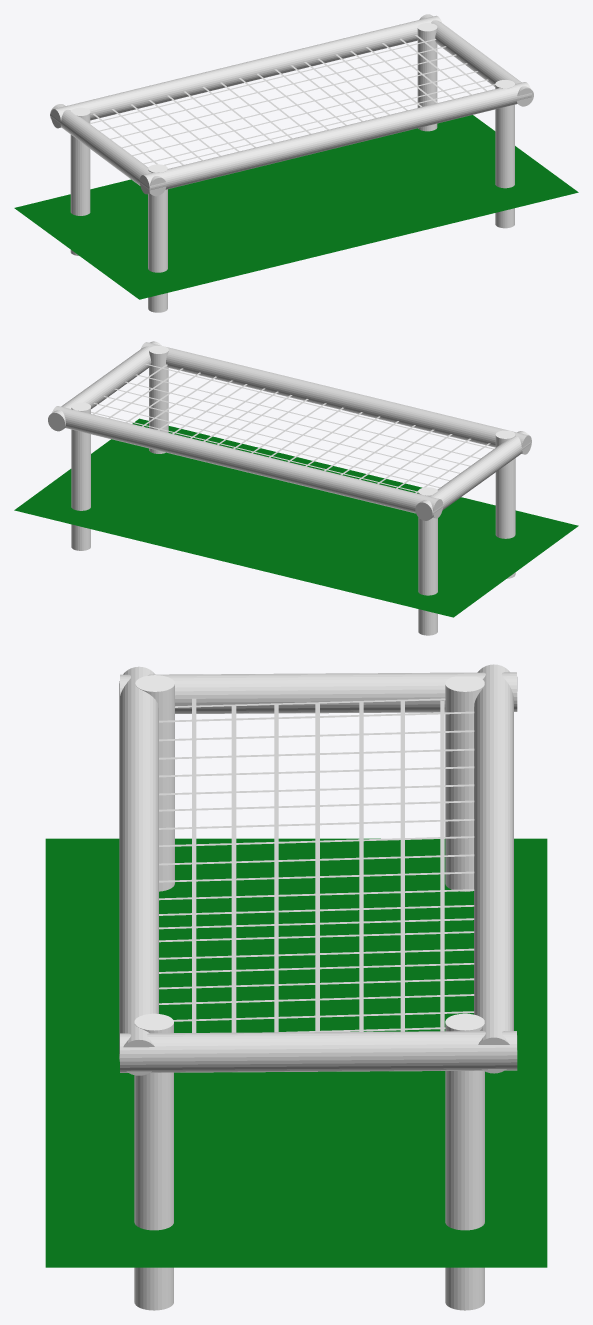
3 views of the same model, one above another, from view 1: azimuth 30°, elevation 25°; view 2: azimuth 150°, elevation 25°; view 3: azimuth 270°, elevation 25° (orthographic). The views are drawn at different scales.
Parts seen in each view (by area): view 1: Plane, Cylinder.002, Cylinder, Cylinder.004, Cylinder.007, Cylinder.005, Cylinder.003, Cylinder.001, Cylinder.006, Plane.004, Plane.031, Plane.030 (+4 smaller); view 2: Plane, Cylinder, Cylinder.002, Cylinder.004, Cylinder.006, Cylinder.001, Cylinder.003, Cylinder.005, Cylinder.007, Plane.004, Plane.033, Plane.030 (+4 smaller); view 3: Plane, Cylinder.003, Cylinder, Cylinder.002, Cylinder.004, Cylinder.006, Cylinder.007, Cylinder.001, Cylinder.005, Plane.033, Plane.004, Plane.030 (+4 smaller).
Boxes of the visible parts, x1,y1,x2,y2 form: Plane: (14,115,578,299); Cylinder.002: (139,82,531,194); Cylinder: (51,15,441,128); Cylinder.004: (50,104,166,196); Cylinder.007: (495,80,514,228); Cylinder.005: (148,164,167,312); Cylinder.003: (419,14,533,106); Cylinder.001: (70,107,90,255); Cylinder.006: (417,23,437,131); Plane.004: (164,84,495,165); Plane.031: (122,63,467,148); Plane.030: (110,54,456,139); Plane: (14,418,578,617); Cylinder: (52,406,443,518); Cylinder.002: (141,342,531,454); Cylinder.004: (415,431,531,520); Cylinder.006: (71,402,90,550); Cylinder.001: (418,487,437,635); Cylinder.003: (48,341,161,431); Cylinder.005: (495,430,515,578); Cylinder.007: (149,345,168,453); Plane.004: (145,364,493,449); Plane.033: (135,374,480,458); Plane.030: (104,396,449,480); Plane: (45,838,547,1267); Cylinder.003: (120,1031,517,1072); Cylinder: (474,664,513,1073); Cylinder.002: (119,666,158,1075); Cylinder.004: (120,672,517,713); Cylinder.006: (445,1013,484,1310); Cylinder.007: (134,1013,173,1310); Cylinder.001: (445,676,484,891); Cylinder.005: (135,675,174,891); Plane.033: (231,706,236,1032); Plane.004: (192,698,196,1032); Plane.030: (359,702,363,1031).
Size of the model in its own units: 460 by 141 by 227.
